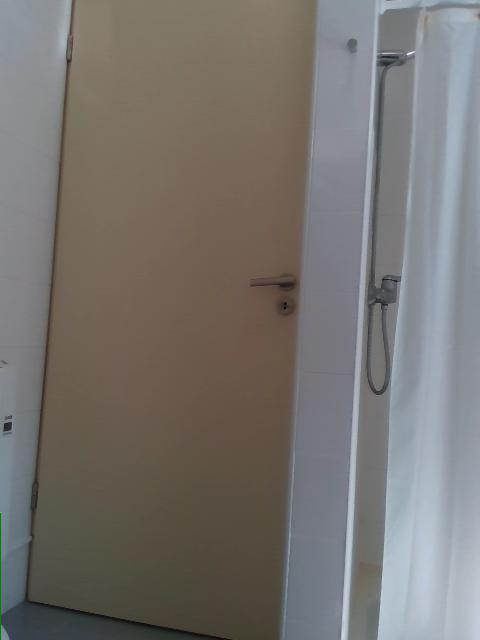door: (30, 1, 314, 639)
